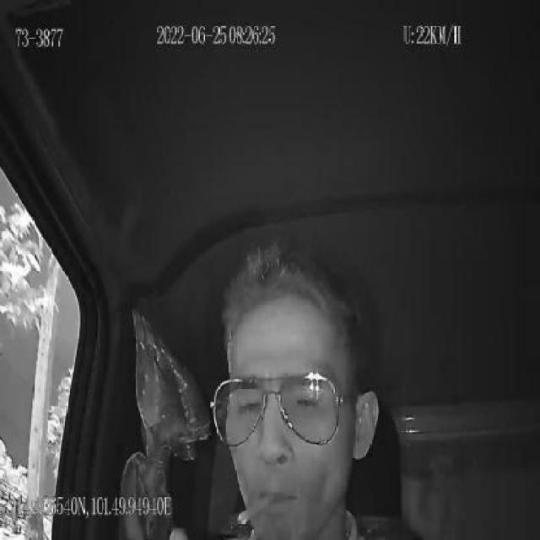smoking: (237, 489, 277, 529)
